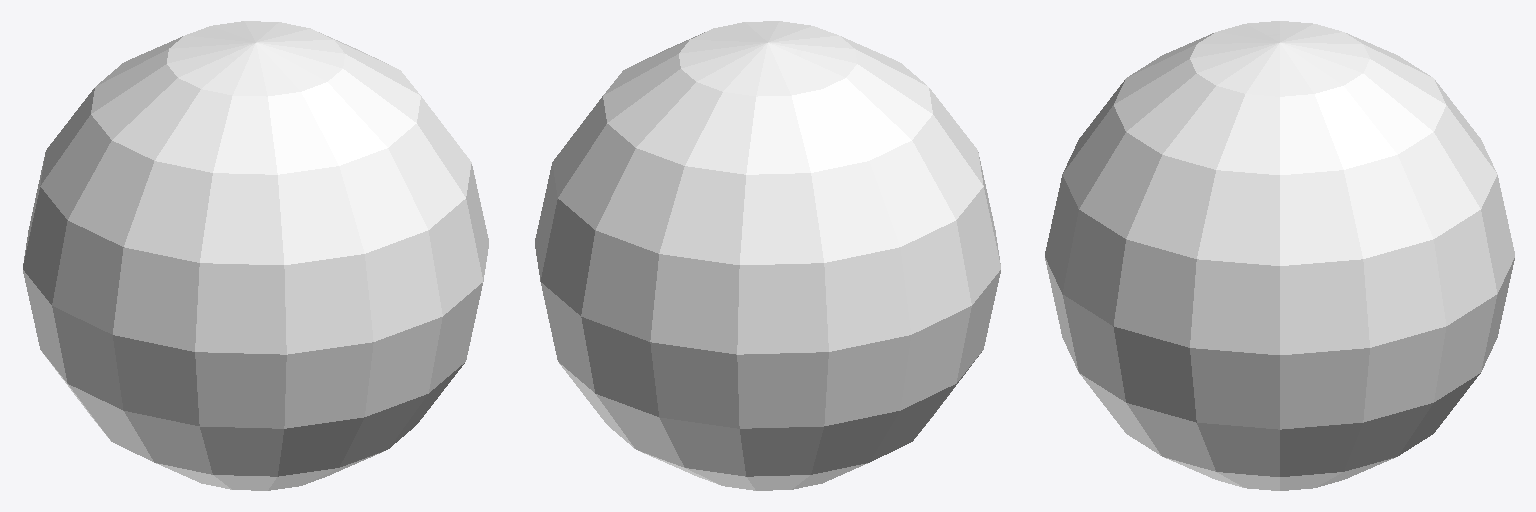
The picture shows the model from 3 angles: view 1: azimuth 30°, elevation 25°; view 2: azimuth 150°, elevation 25°; view 3: azimuth 270°, elevation 25°; orthographic projection.
Parts seen in each view (by area): view 1: 球; view 2: 球; view 3: 球.
Boxes of the visible parts, x1,y1,x2,y2 form: 球: [23, 21, 488, 490]; 球: [535, 21, 1000, 490]; 球: [1045, 21, 1514, 490].
Bounding box in the file's own units: 2 × 2 × 2.
Materials: 1 (1 with a texture image).